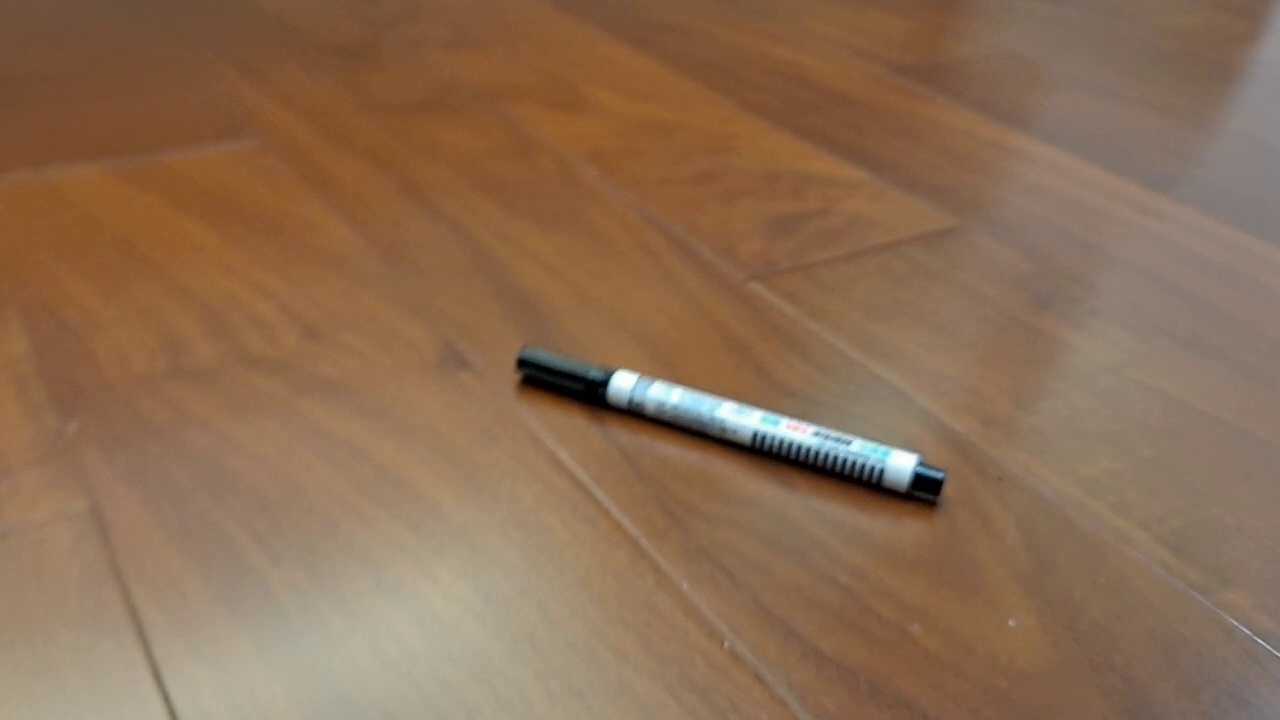pen: (516, 345, 948, 505)
